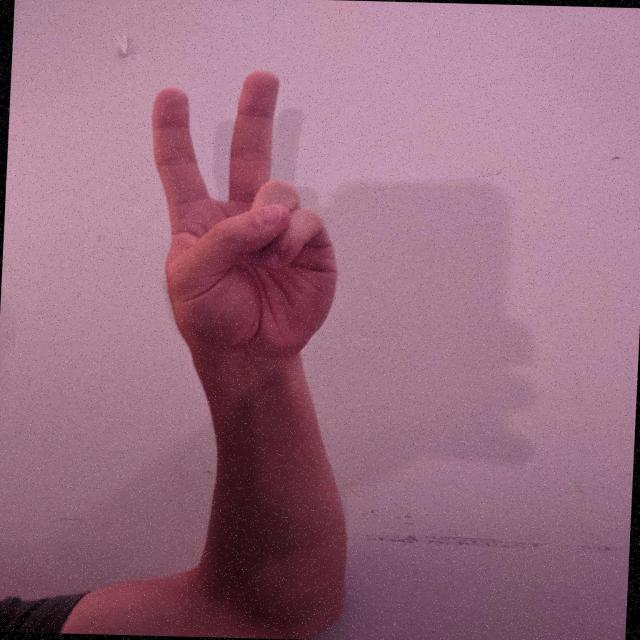V: (136, 64, 352, 359)
